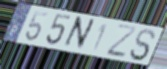1: (92, 24, 108, 52)
5: (45, 13, 73, 46), (24, 9, 50, 42)
N: (60, 15, 97, 52)
S: (128, 28, 157, 62)
Z: (105, 23, 139, 60)
